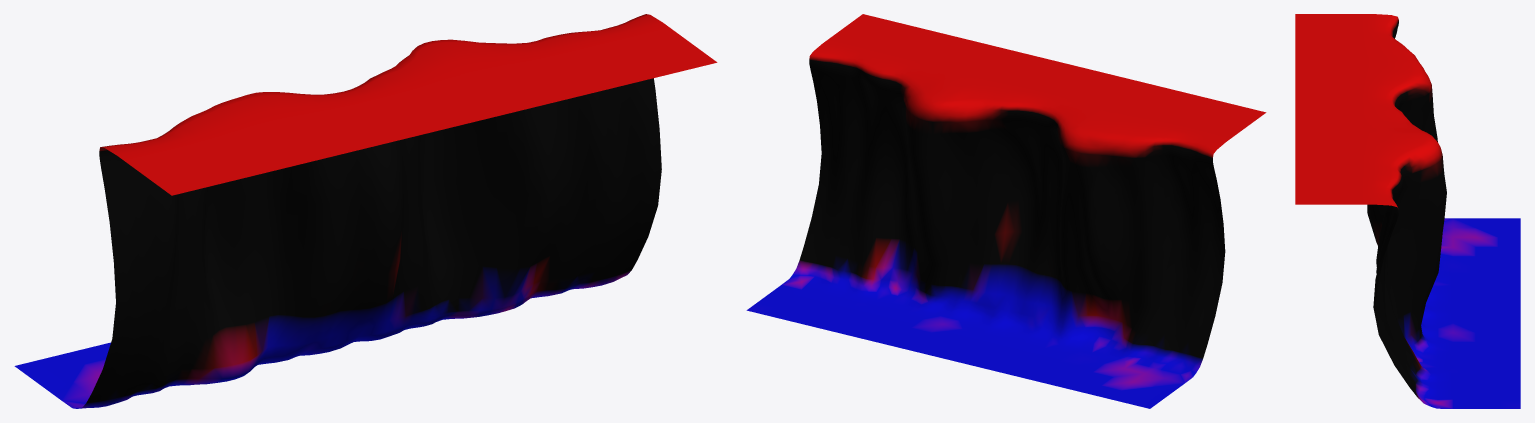
Rendered from GroundCliff02A 2M for Water Foreground.fbx.
3 views of the same model, side by side, from view 1: azimuth 30°, elevation 25°; view 2: azimuth 150°, elevation 25°; view 3: azimuth 270°, elevation 25° (orthographic). The views are drawn at different scales.
Visible parts, largest first — view 1: GroundCliff02A 2M for Water Foreground; view 2: GroundCliff02A 2M for Water Foreground; view 3: GroundCliff02A 2M for Water Foreground.
Boxes of the visible parts, x1,y1,x2,y2 form: GroundCliff02A 2M for Water Foreground: [14, 14, 717, 408]; GroundCliff02A 2M for Water Foreground: [746, 14, 1266, 408]; GroundCliff02A 2M for Water Foreground: [1295, 14, 1520, 408].
Bounding box in the file's own units: 4 × 2 × 2.
